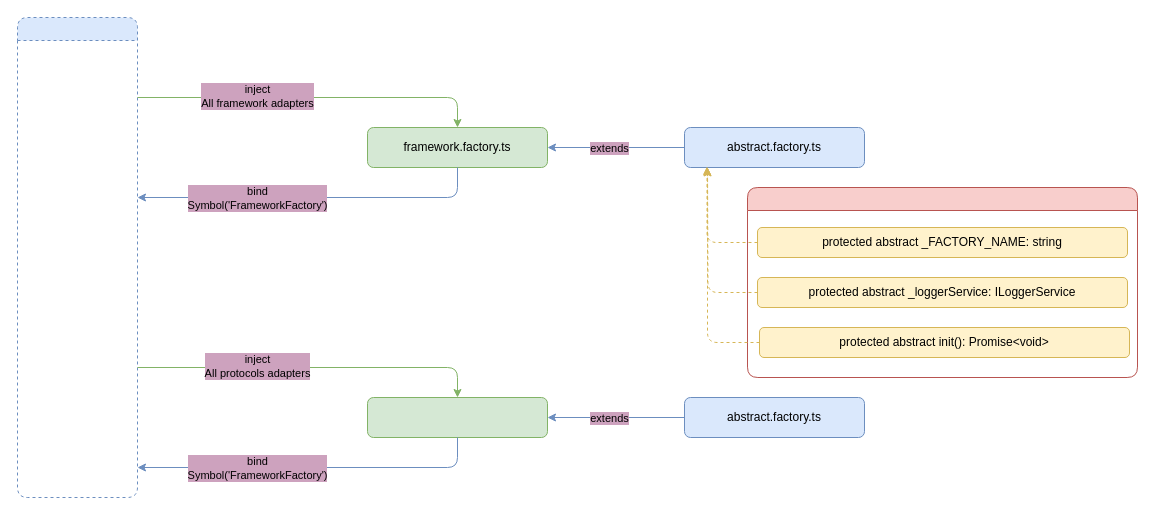
The diagram is 1155 pixels wide and 515 high, and some of its shapes have lost their labels. Here are the shapes that lost their labels. From the top down, the box of each, then its label:
(16, 16, 138, 498): ioc.core.ts
(746, 186, 1138, 378): methods and properties
(366, 396, 548, 438): transport.factory.ts
